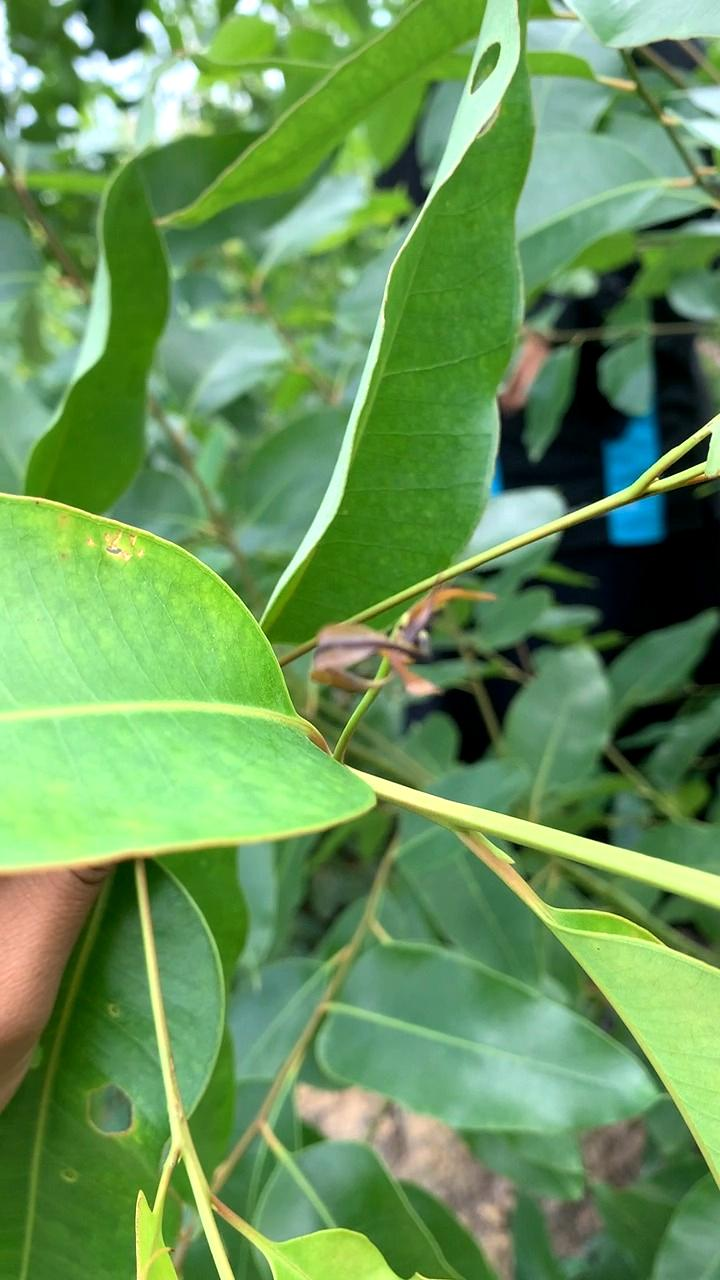Helopeltis-Withered Sprout: (305, 588, 503, 697)
